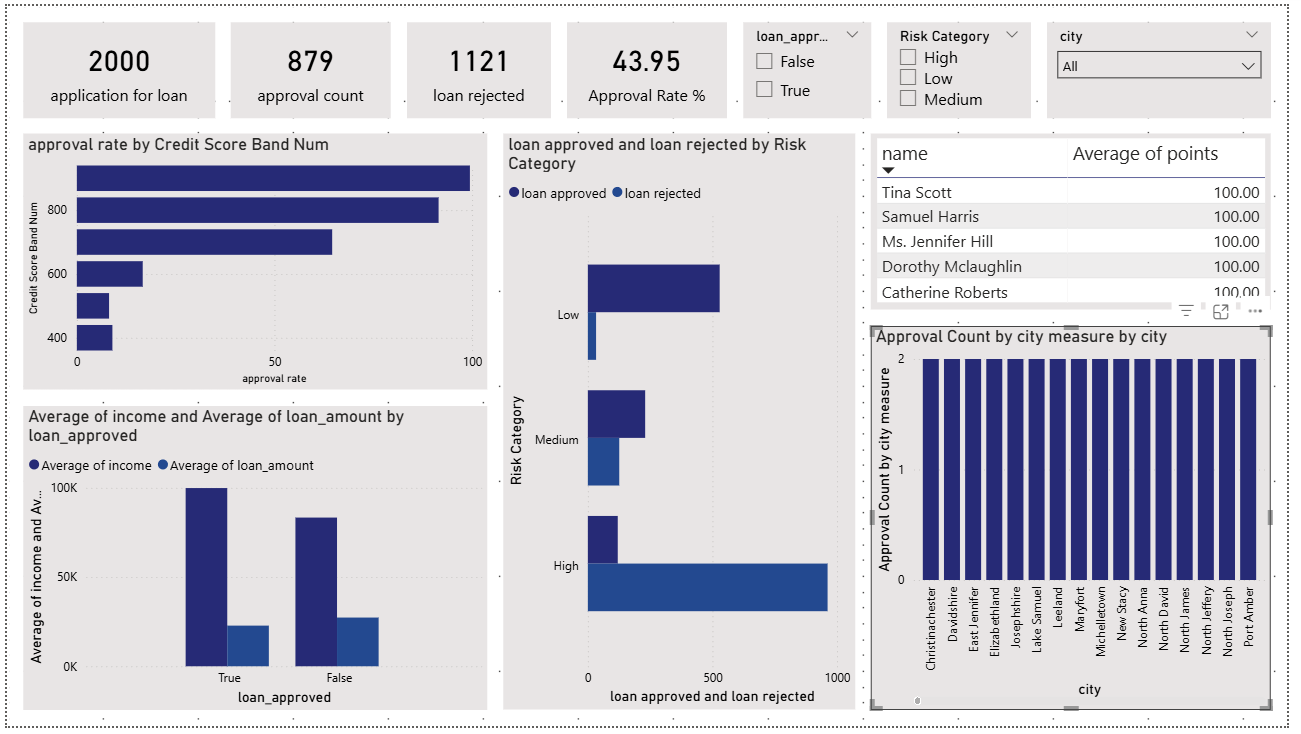

What the dashboard file says about the page in this screenshot:
{"tool":"powerbi","page":{"name":"Page 1","canvas":[1280,720],"ordinal":0},"visuals":[{"type":"card","fields":{"Values":["loan_approval.name"]},"box":[16,16,192,96],"z":0},{"type":"card","fields":{"Values":["loan_approval.loan approved"]},"box":[224,16,160,96],"z":1000},{"type":"card","fields":{"Values":["loan_approval.loan rejected"]},"box":[400,16,144,96],"z":2000},{"type":"card","fields":{"Values":["loan_approval.approval rate"]},"box":[560,16,160,96],"z":3000},{"type":"barChart","fields":{"Category":["loan_approval.Loan Amount Band Num"],"Y":["loan_approval.approval rate"]},"box":[16,128,464,256],"z":4000},{"type":"columnChart","fields":{"Category":["Table.city"],"Y":["Table.Approval Count by city measure"]},"box":[864,320,400,384],"z":5000},{"type":"clusteredBarChart","fields":{"Y":["loan_approval.loan approved","loan_approval.loan rejected"],"Category":["loan_approval.Risk Category"]},"box":[496,128,352,576],"z":6000},{"type":"lineClusteredColumnComboChart","fields":{"Y":["loan_approval.income","loan_approval.loan_amount"],"Category":["loan_approval.loan_approved"]},"box":[16,400,464,304],"z":7000},{"type":"tableEx","fields":{"Values":["Topn table.name","Topn table.points"]},"box":[864,128,400,176],"z":8000},{"type":"slicer","fields":{"Values":["Table.city"]},"box":[1040,16,224,96],"z":9000},{"type":"slicer","fields":{"Values":["Table.Risk Category"]},"box":[880,16,144,96],"z":10000},{"type":"slicer","fields":{"Values":["loan_approval.loan_approved"]},"box":[736,16,128,96],"z":11000}]}

Visuals, with their boxes in screenshot pixels (x1, y1, x2, y2), scaled from the page's 1280x720 canvas onto the 1301x734 screenshot:
card - loan_approval.name: [16, 16, 211, 114]
card - loan_approval.loan approved: [228, 16, 390, 114]
card - loan_approval.loan rejected: [407, 16, 553, 114]
card - loan_approval.approval rate: [569, 16, 732, 114]
barChart - loan_approval.Loan Amount Band Num x loan_approval.approval rate: [16, 130, 488, 391]
columnChart - Table.city x Table.Approval Count by city measure: [878, 326, 1285, 718]
clusteredBarChart - loan_approval.loan approved x loan_approval.loan rejected: [504, 130, 862, 718]
lineClusteredColumnComboChart - loan_approval.income x loan_approval.loan_amount: [16, 408, 488, 718]
tableEx - Topn table.name x Topn table.points: [878, 130, 1285, 310]
slicer - Table.city: [1057, 16, 1285, 114]
slicer - Table.Risk Category: [894, 16, 1041, 114]
slicer - loan_approval.loan_approved: [748, 16, 878, 114]
